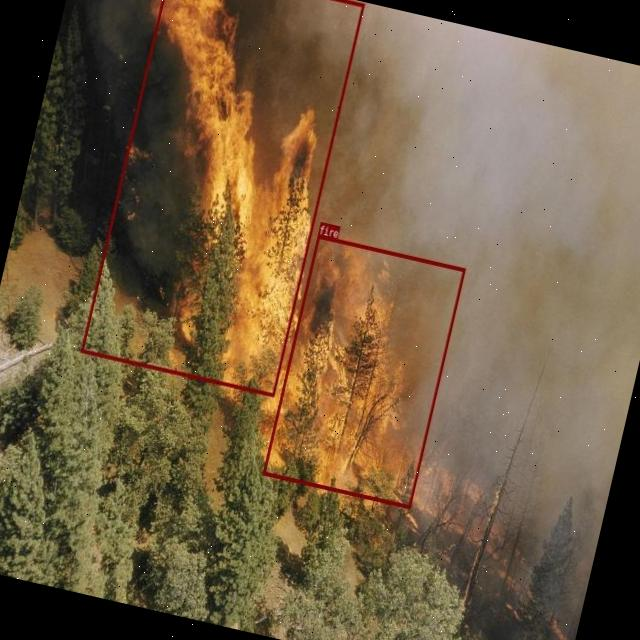fire: (79, 0, 363, 396), (262, 234, 464, 508)
